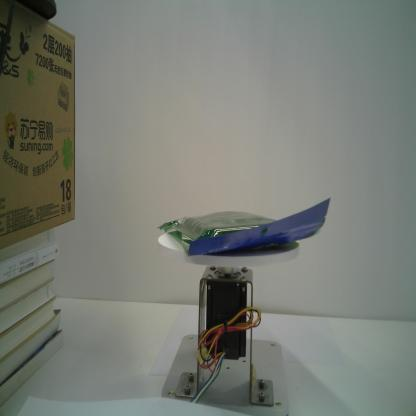Dried Food: (155, 197, 331, 257)
